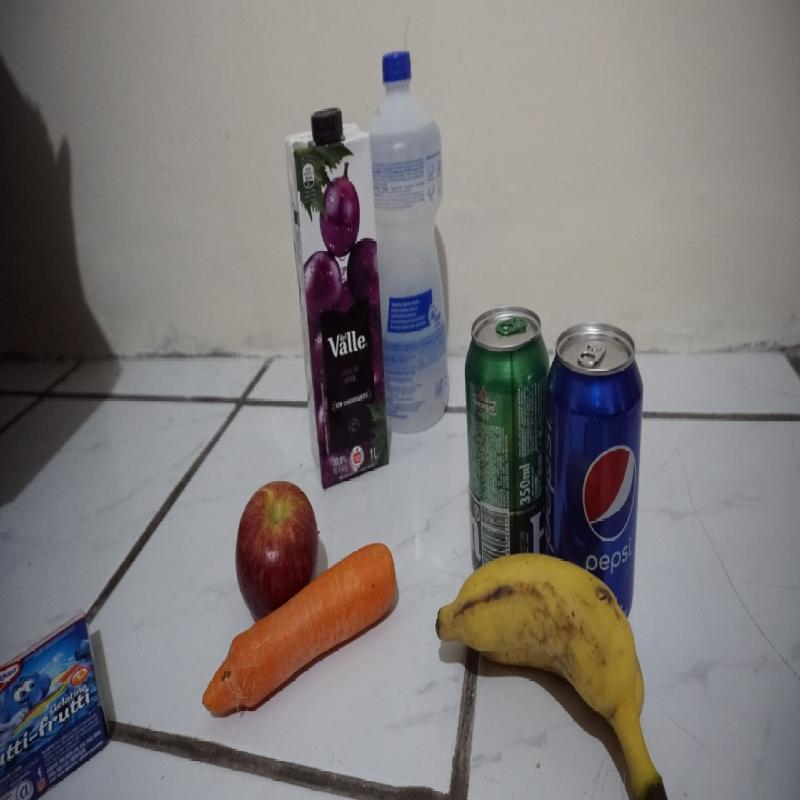Alcohol Bottle: (366, 49, 450, 448)
Apple: (233, 481, 318, 621)
Banana: (436, 553, 661, 796)
Beer can: (464, 305, 550, 578)
Carrot: (201, 541, 397, 720)
Gelatine: (1, 613, 110, 796)
Soda can: (546, 323, 646, 628)
